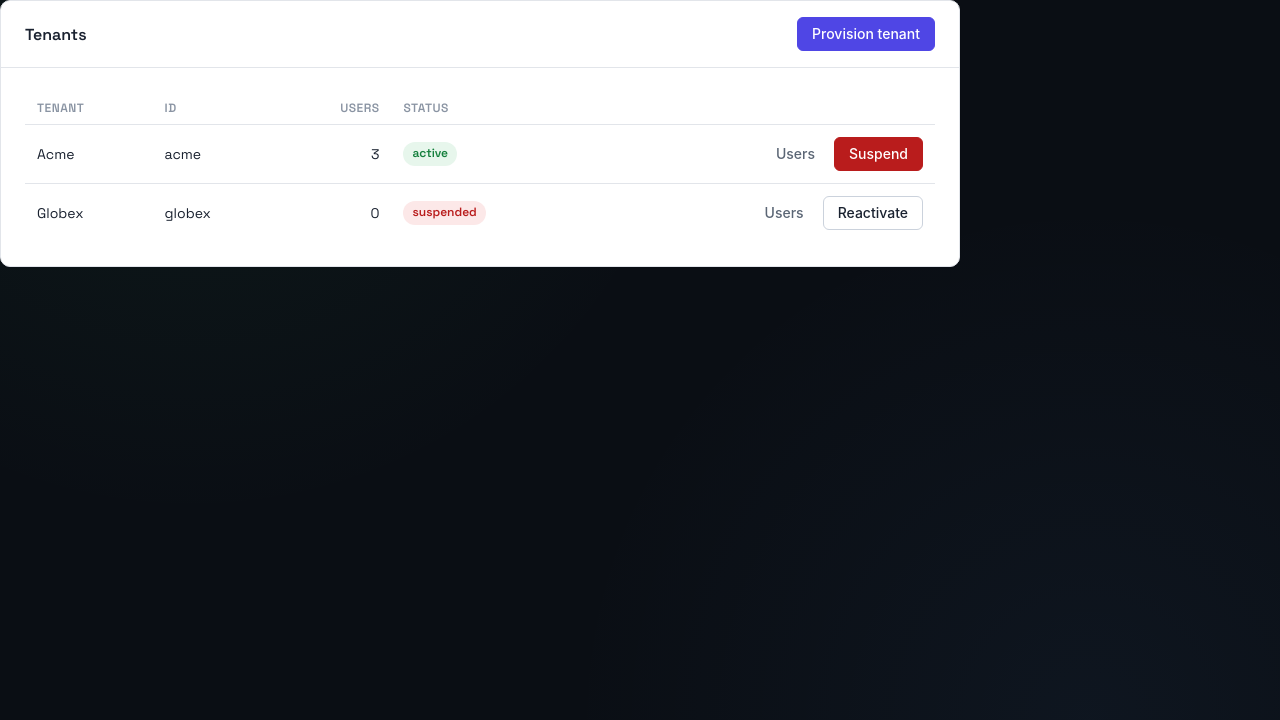
PlatformScreen drill (S98) › drills into a tenant's users
This screenshot has width=1280, height=720.
Expected: the text "Acme" is shown, x1=25 y1=124 x2=153 y2=184
Click the button with test id "drill-acme" at (795, 154), box x1=761 y1=137 x2=830 y2=171
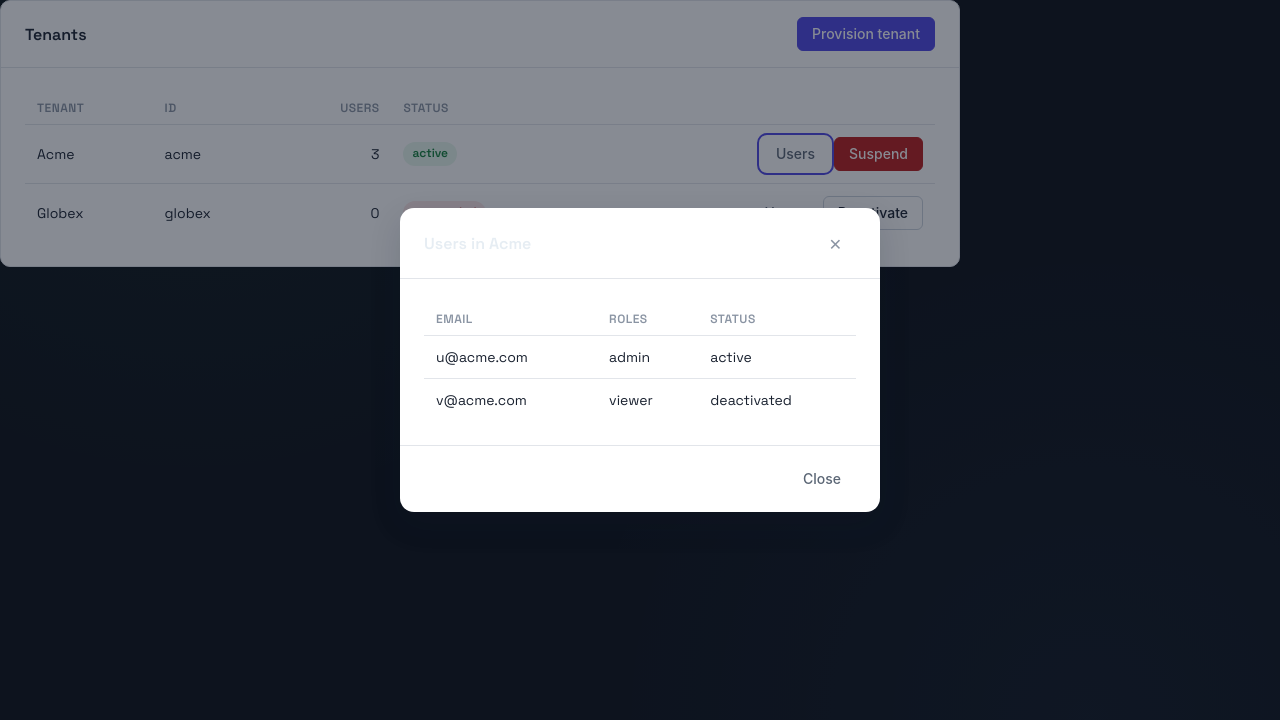
Result: the text "u@acme.com" is shown at x1=424 y1=336 x2=597 y2=378
